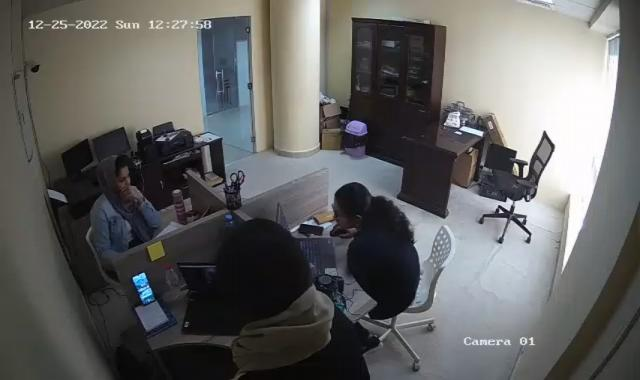no_hairnet: (212, 214, 318, 327), (331, 182, 374, 234), (99, 152, 133, 188)
